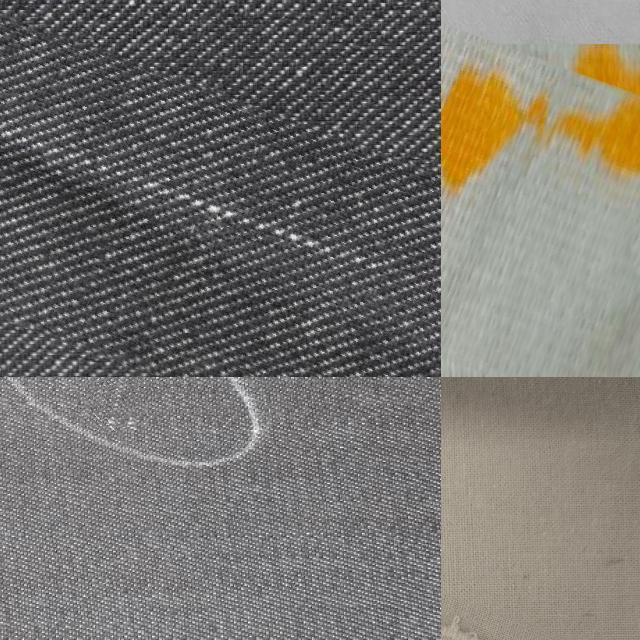Hole: (441, 9, 640, 377)
Thread_other: (0, 28, 441, 377), (441, 595, 640, 640), (88, 377, 157, 436)
